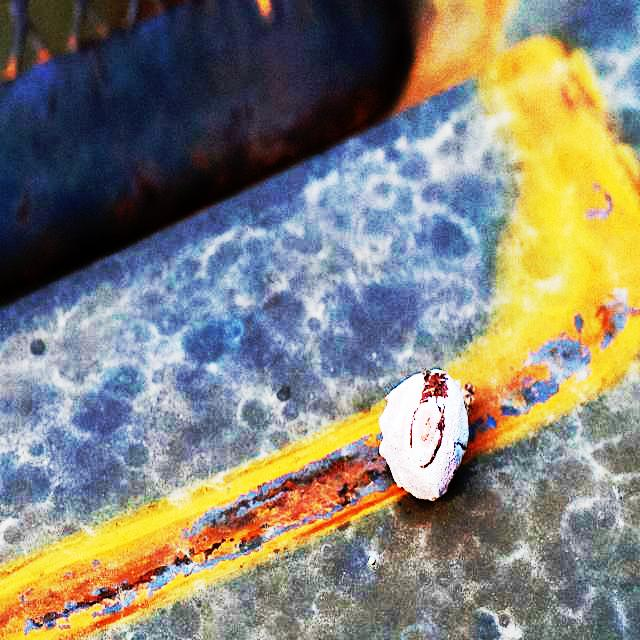Corrosion: (0, 409, 402, 640), (451, 41, 640, 462)
